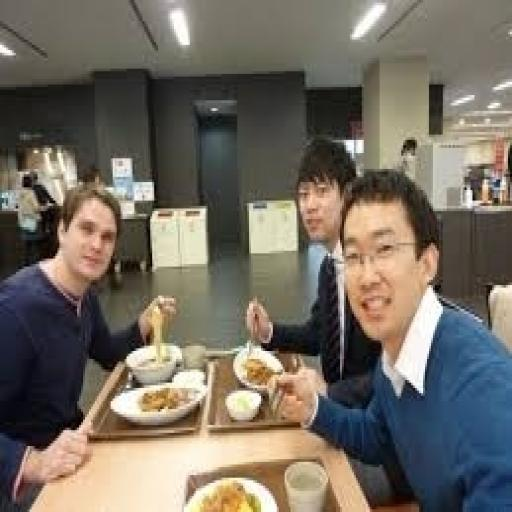eating: (0, 130, 510, 510)
